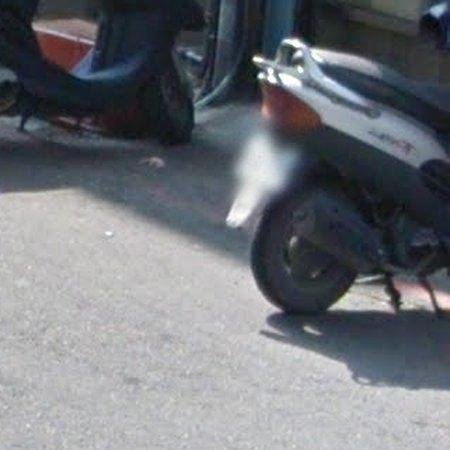motorcycles: (252, 37, 450, 314)
